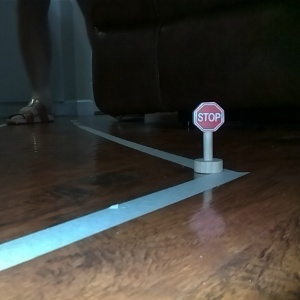stop sign: (190, 98, 225, 175)
